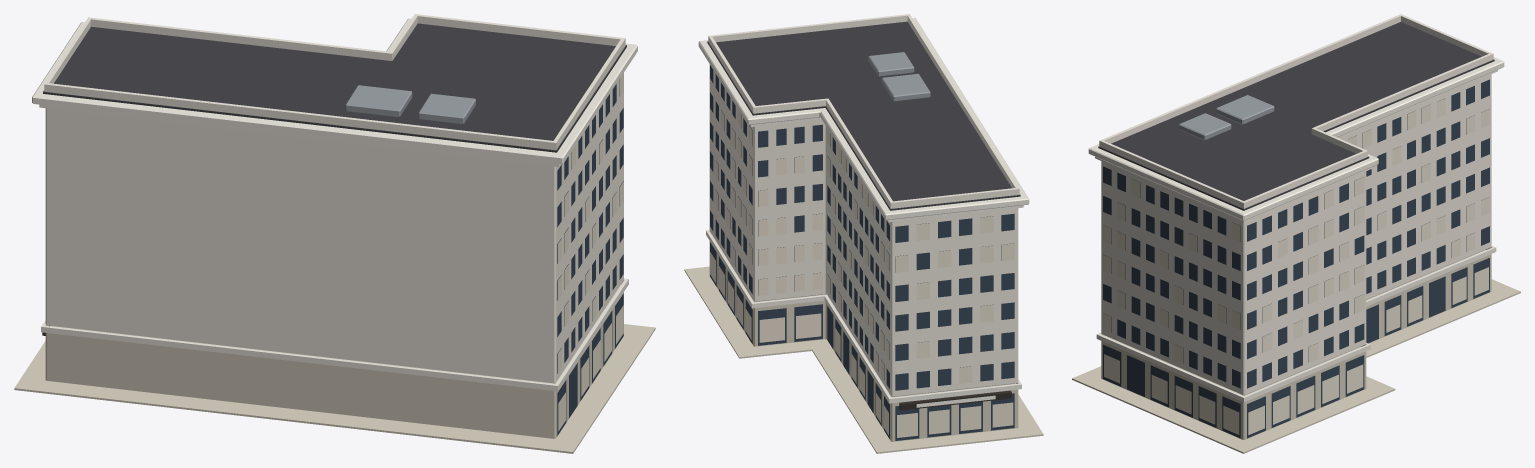
File: 715-market-street.glb
3 renders of one model, left to right at view 1: azimuth 30°, elevation 25°; view 2: azimuth 150°, elevation 25°; view 3: azimuth 270°, elevation 25°, orthographic. The views are drawn at different scales.
Visible parts, largest first — view 1: 715-market-street_body, 715-market-street_night_glow; view 2: 715-market-street_body, 715-market-street_night_glow; view 3: 715-market-street_body, 715-market-street_night_glow.
Part boxes in pixels (x1,y1,x2,y2): 715-market-street_body: [14, 14, 655, 453]; 715-market-street_night_glow: [558, 73, 623, 431]; 715-market-street_body: [684, 14, 1043, 453]; 715-market-street_night_glow: [710, 109, 1014, 437]; 715-market-street_body: [1072, 14, 1520, 453]; 715-market-street_night_glow: [1102, 98, 1489, 434].
Size of the model in its own units: 62.1 by 32.6 by 55.45.
